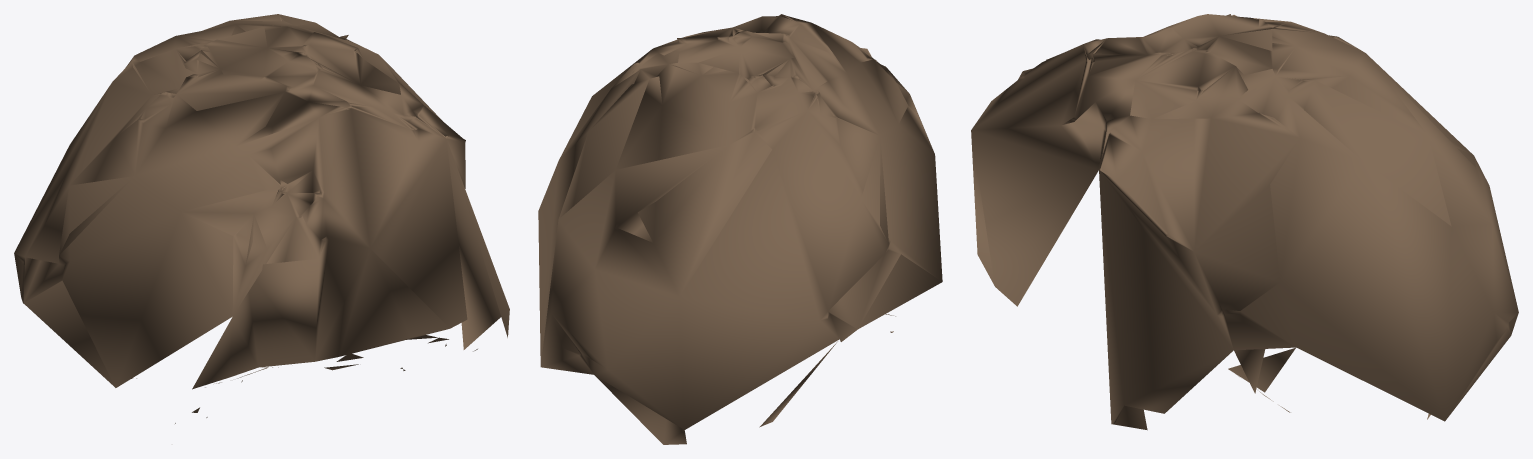
File: hair32-male-curly-a3.glb
3 renders of one model, left to right at view 1: azimuth 30°, elevation 25°; view 2: azimuth 150°, elevation 25°; view 3: azimuth 270°, elevation 25°, orthographic. The views are drawn at different scales.
Parts seen in each view (by area): view 1: hair32-curly; view 2: hair32-curly; view 3: hair32-curly.
Boxes of the visible parts, <box> form: hair32-curly: <box>14,14,509,423</box>; hair32-curly: <box>538,14,942,444</box>; hair32-curly: <box>971,14,1518,430</box>.
Bounding box in the file's own units: 0.182 × 0.1689 × 0.2147.
